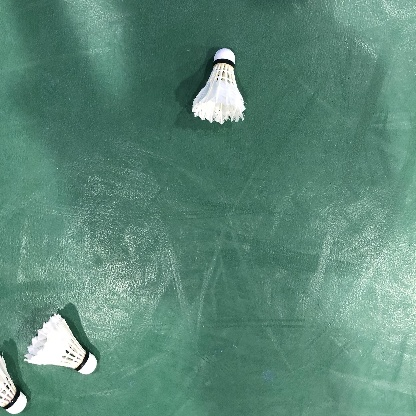ball_single: (24, 314, 97, 374), (192, 48, 245, 124), (0, 354, 27, 414)
